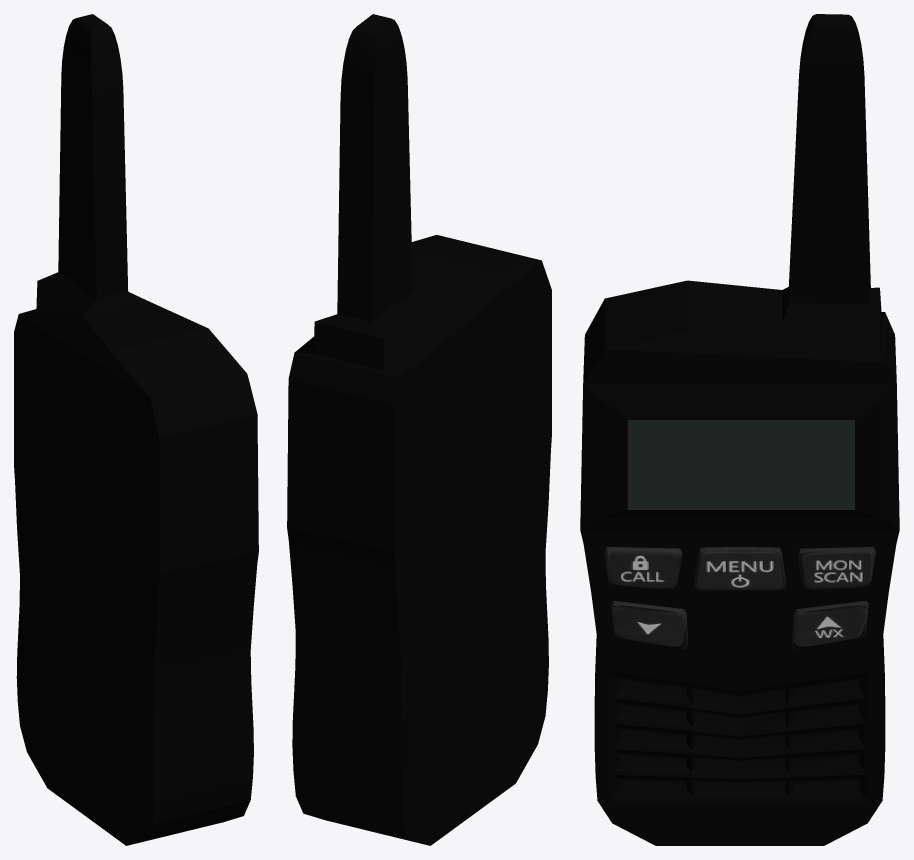
Rendered from walkie-talkie.glb.
3 renders of one model, left to right at view 1: azimuth 30°, elevation 25°; view 2: azimuth 150°, elevation 25°; view 3: azimuth 270°, elevation 25°, orthographic. The views are drawn at different scales.
Parts seen in each view (by area): view 1: base; view 2: base; view 3: base, display, buttons.002, buttons.001, buttons.003, buttons.004, buttons.005.
Part boxes in pixels (x1,y1,x2,y2): base: [14, 14, 258, 845]; base: [287, 14, 551, 845]; base: [580, 14, 899, 845]; display: [627, 420, 854, 508]; buttons.002: [694, 547, 785, 590]; buttons.001: [798, 547, 875, 589]; buttons.003: [604, 547, 682, 589]; buttons.004: [611, 600, 687, 648]; buttons.005: [792, 600, 868, 648].
Bounding box in the file's own units: 0.6491 × 4.44 × 1.6.
3 materials, 1 textured.
